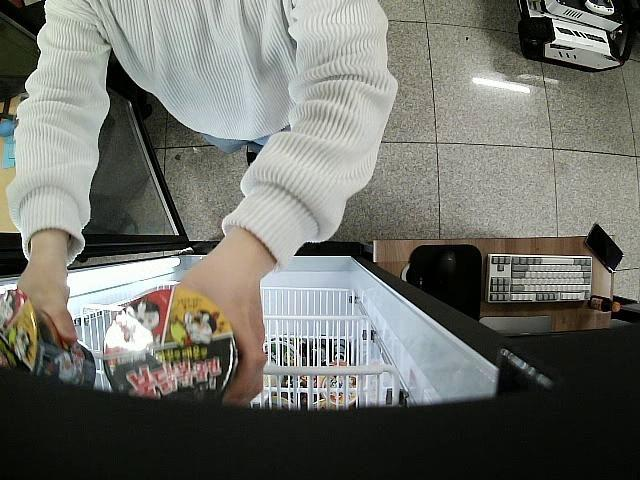08_buldak_S: (101, 286, 236, 402), (0, 290, 96, 390)
